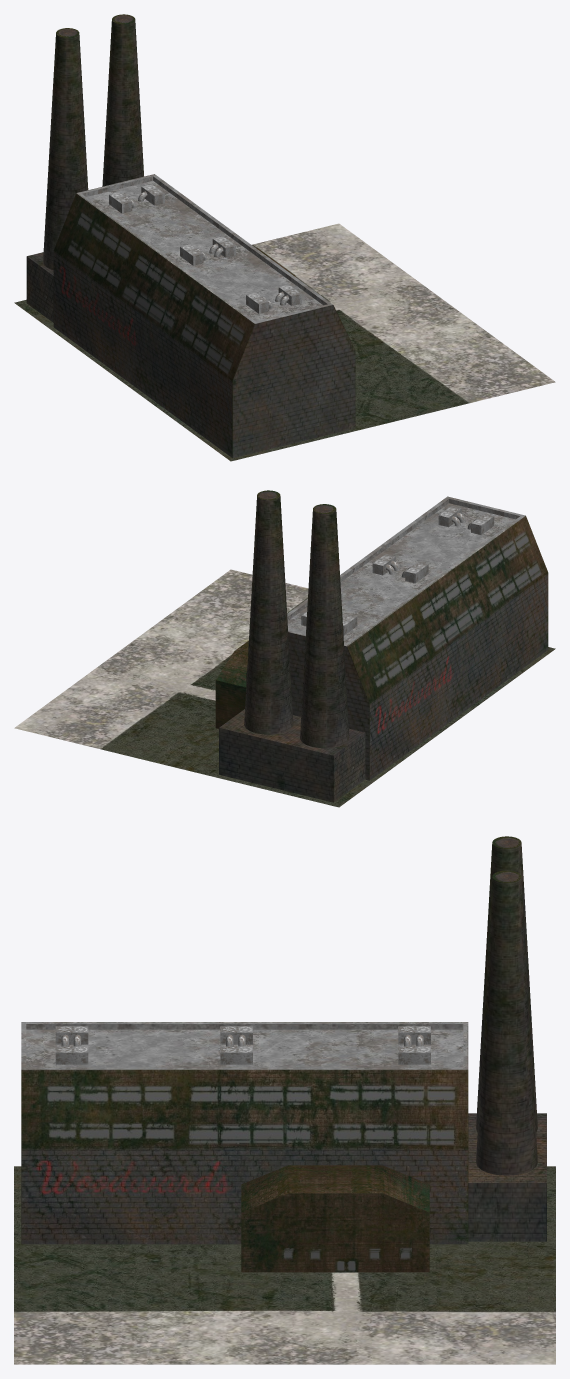
Rendered from factory.fbx.
3 renders of one model, top to bottom at view 1: azimuth 30°, elevation 25°; view 2: azimuth 150°, elevation 25°; view 3: azimuth 270°, elevation 25°, orthographic. The views are drawn at different scales.
Visible parts, largest first — view 1: polySurface23; view 2: polySurface23; view 3: polySurface23.
Boxes of the visible parts, <box> form: polySurface23: <box>14,14,555,461</box>; polySurface23: <box>14,490,555,807</box>; polySurface23: <box>14,836,555,1364</box>.
Size of the model in its own units: 4112 by 3373 by 4751.
